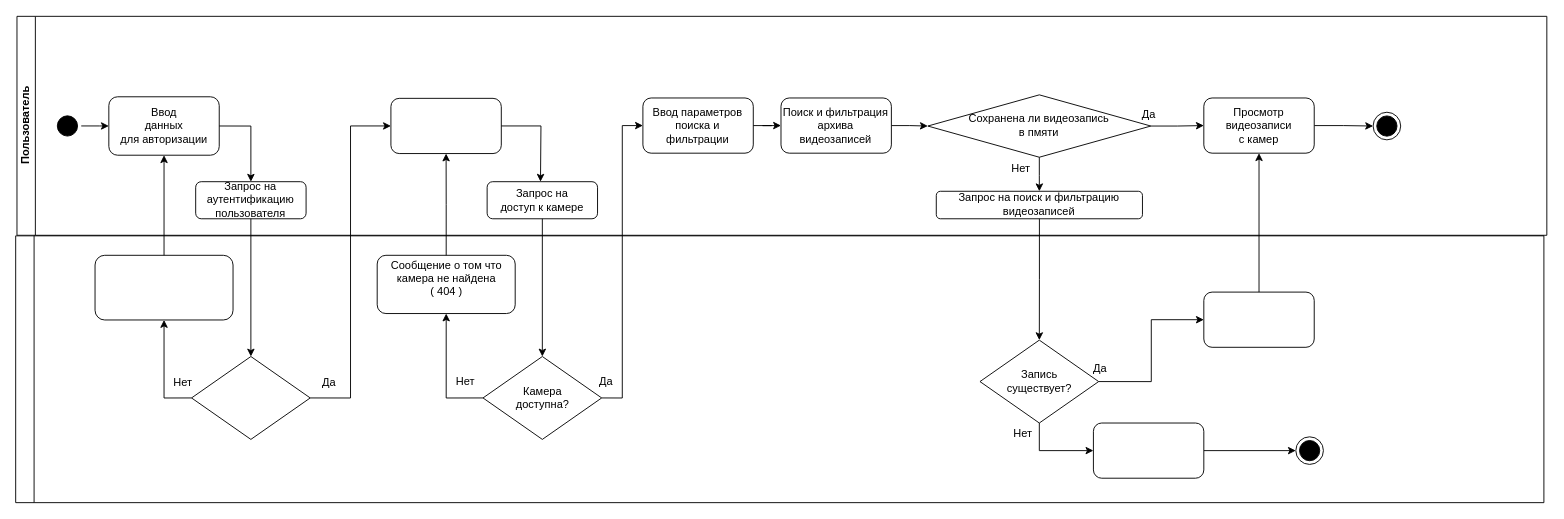
This 1564x519 diagram has some shape labels left out. Here are the shapes that lost their labels. From the top down, the box of each, then its label:
(390, 97, 501, 154): Выбор видеокамеры
(94, 254, 233, 320): Сообщение о том что пользователь не найден ( 404 )
(1203, 291, 1314, 347): Отправка ответа, ввиде найденной видеозаписи
(15, 235, 1544, 503): Сервер
(191, 356, 310, 439): Пользователь сущестует?
(1092, 422, 1204, 478): Сообщить, об отсутсвии видеозаписей (404)
